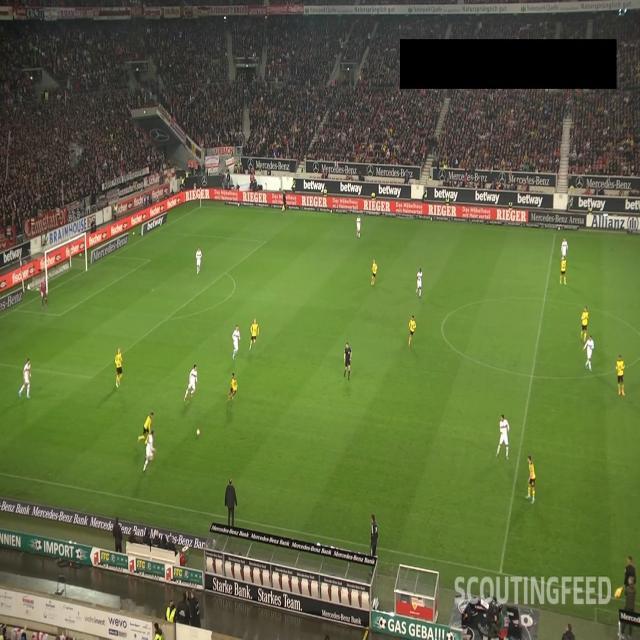ball: (196, 428, 200, 436)
